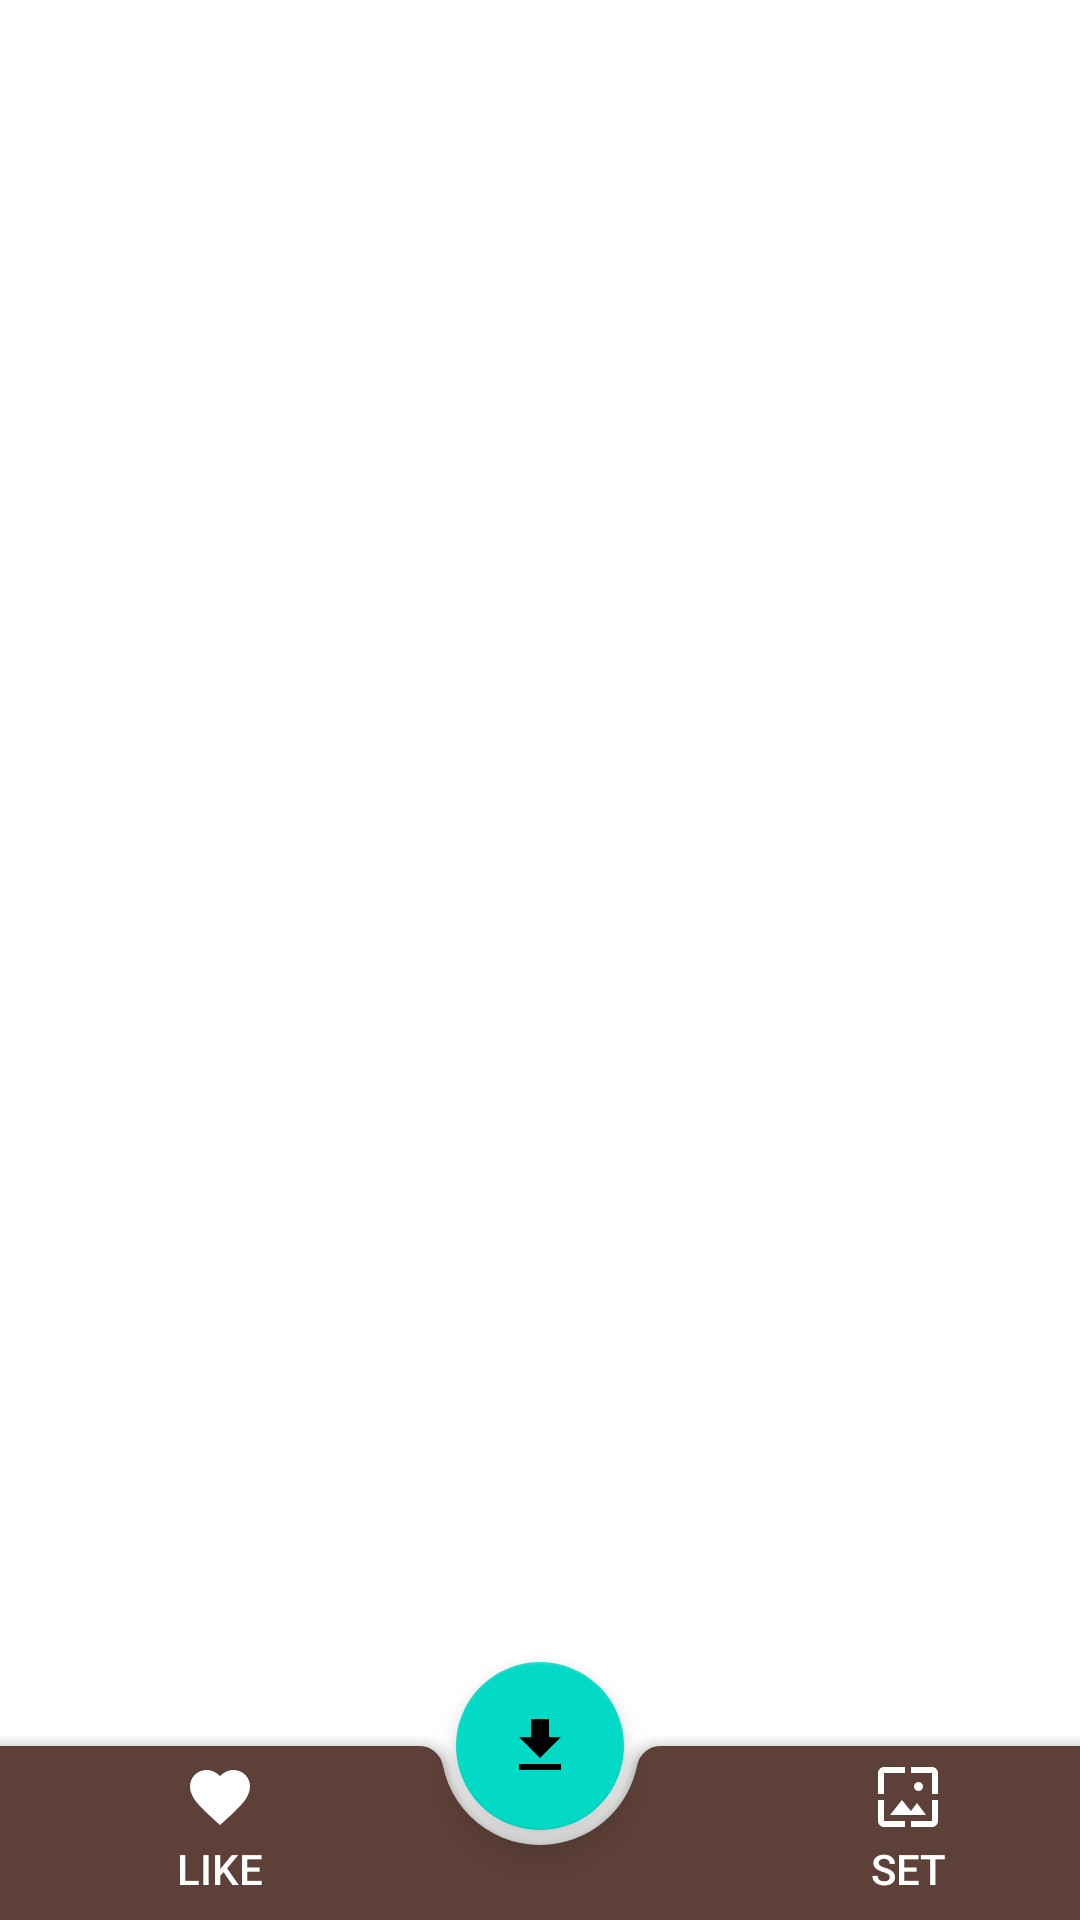

Icon click points for this 1080×1920 phone screenshot, format (x=x, y=y):
download: (x=540, y=1746)
